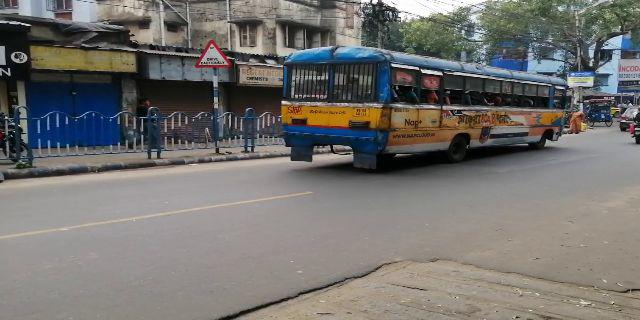Bus: (281, 51, 571, 152)
